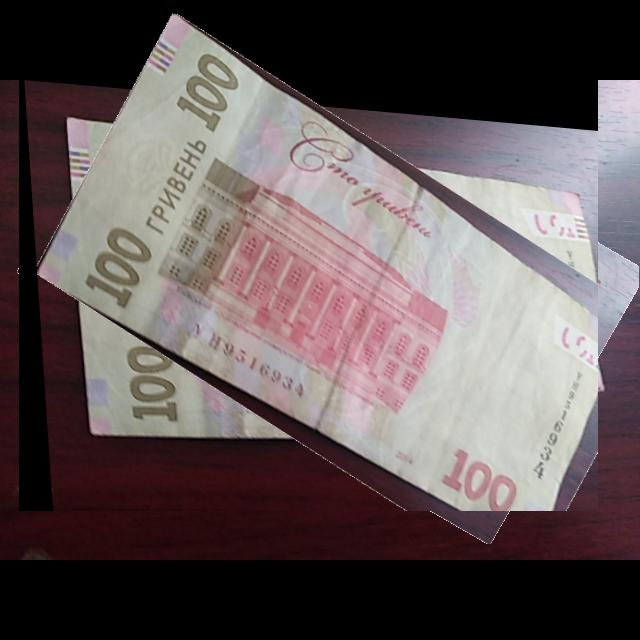100uah: (34, 11, 599, 512)
